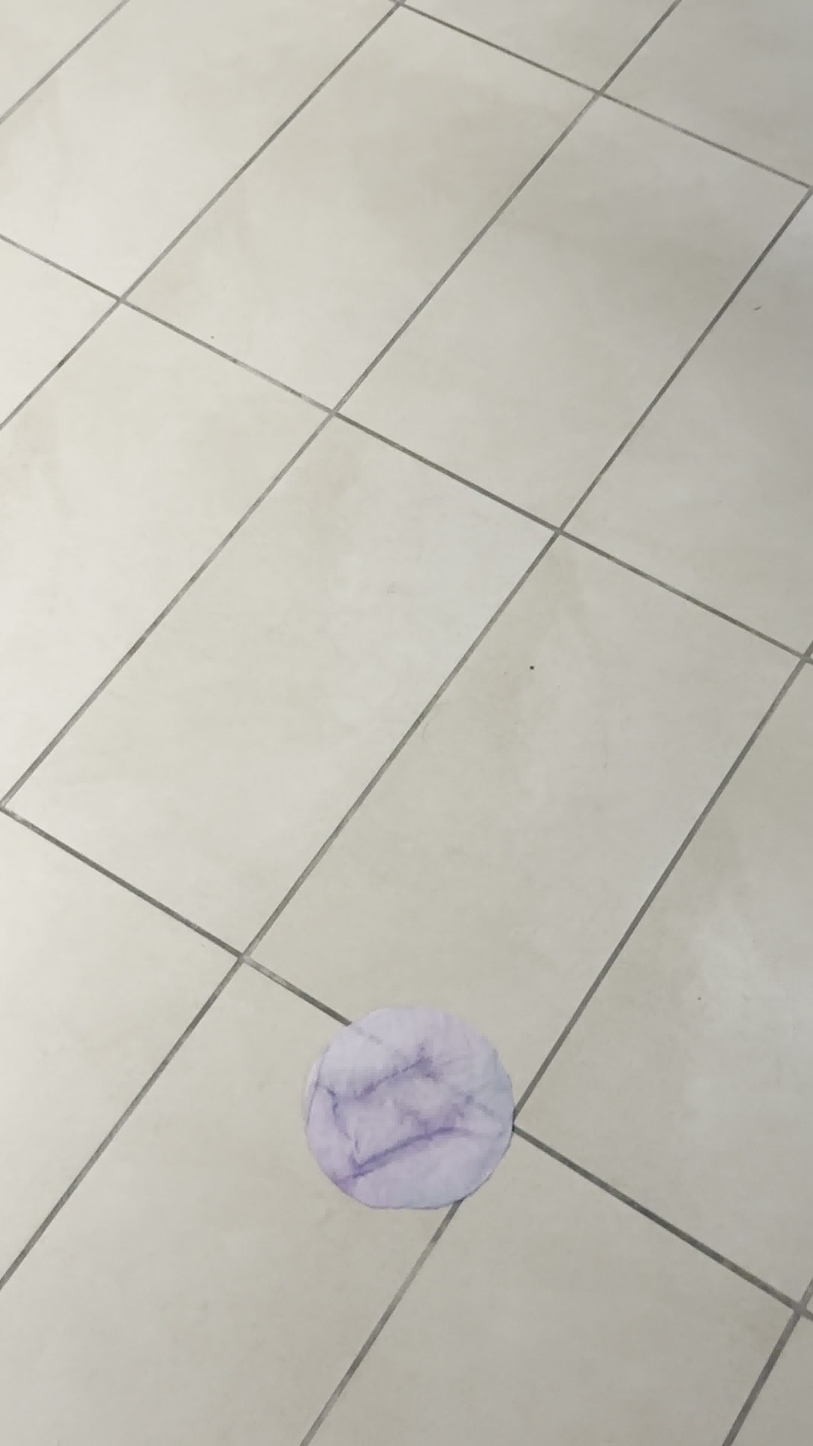Target: (304, 1008, 513, 1209)
